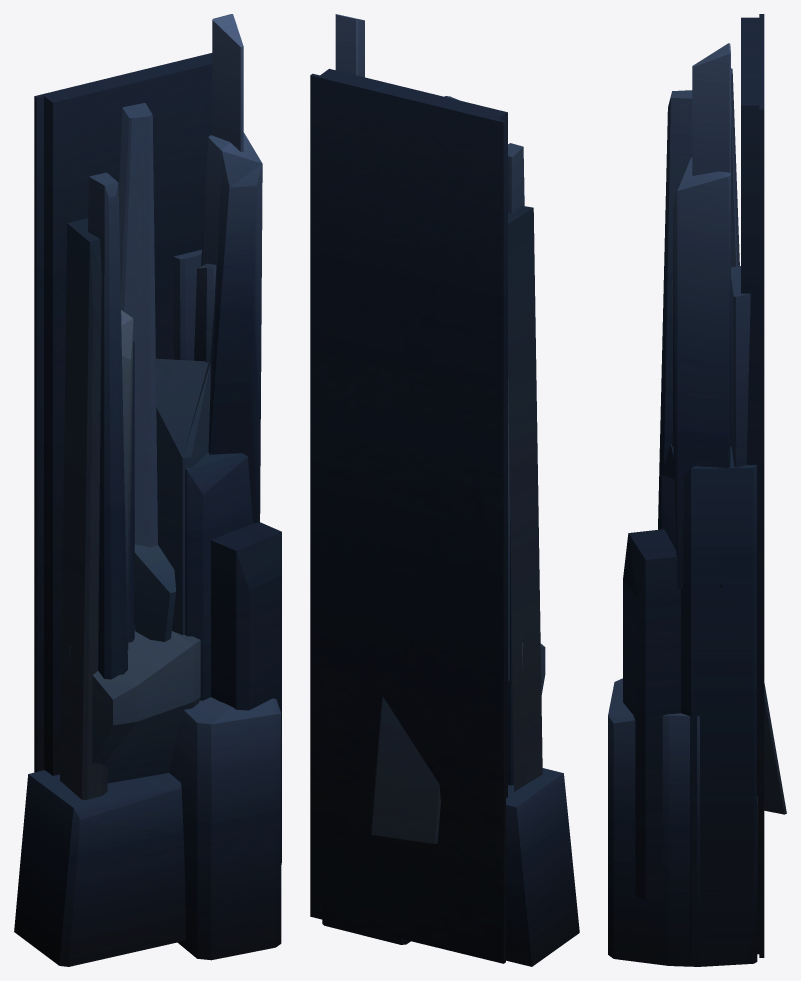
The model's file is Wall_straight_03.glb.
3 views of the same model, side by side, from view 1: azimuth 30°, elevation 25°; view 2: azimuth 150°, elevation 25°; view 3: azimuth 270°, elevation 25° (orthographic). The views are drawn at different scales.
Visible parts, largest first — view 1: Wall_straight_03; view 2: Wall_straight_03; view 3: Wall_straight_03.
Part boxes in pixels (left/top/right/bottom): Wall_straight_03: left=14, top=14, right=281, bottom=966; Wall_straight_03: left=310, top=14, right=579, bottom=966; Wall_straight_03: left=608, top=14, right=786, bottom=966.
Size of what is drawn, in the model's own units: 14.7 by 57.85 by 10.32.
1 material, 1 textured.
